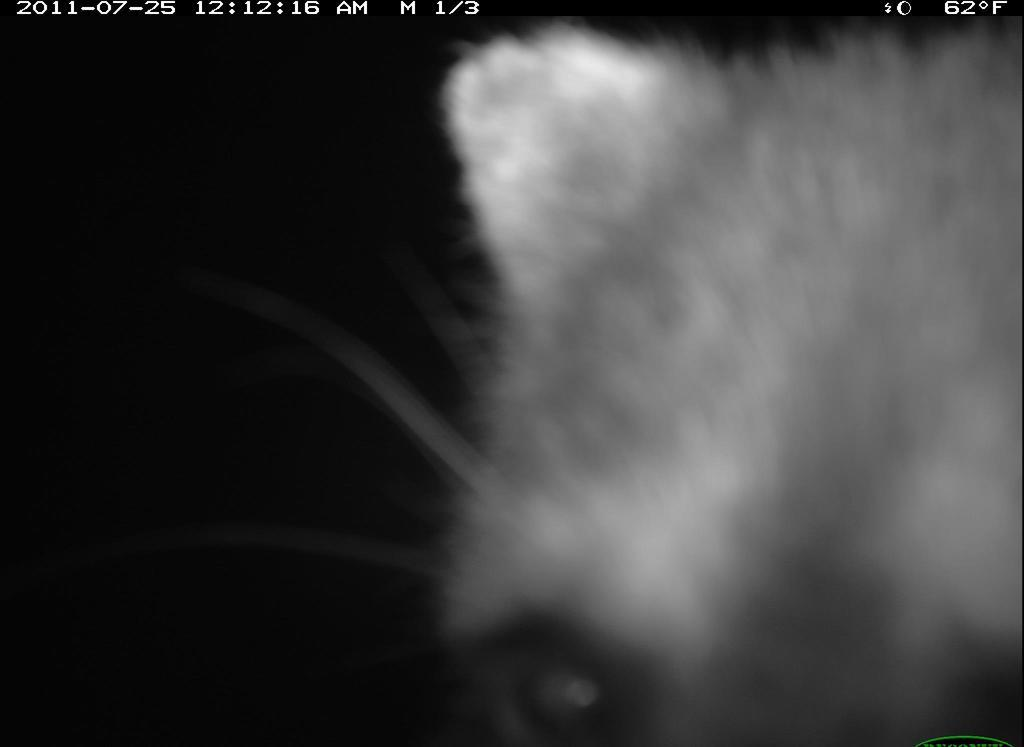raccoon: (193, 17, 1023, 747)
